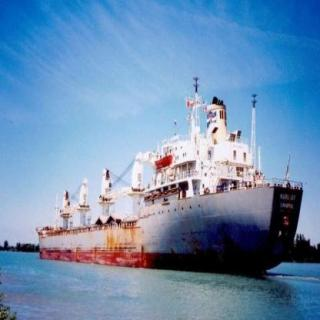Bulk Carrier: (43, 74, 310, 269)
